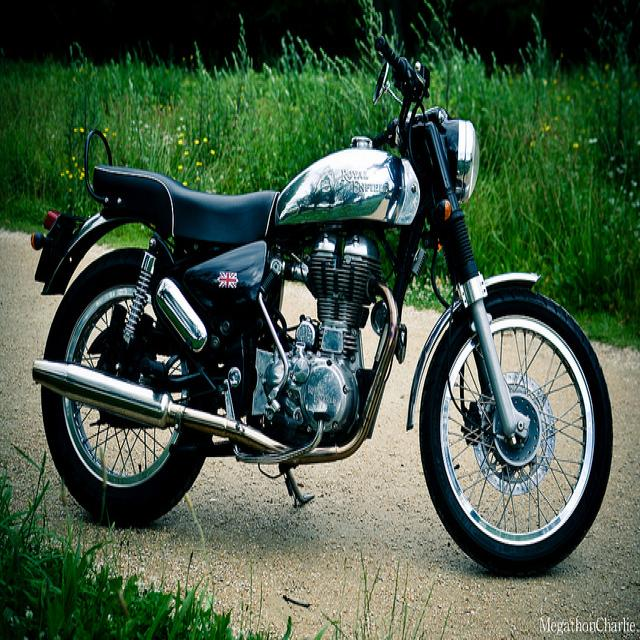motor: (31, 26, 615, 571)
